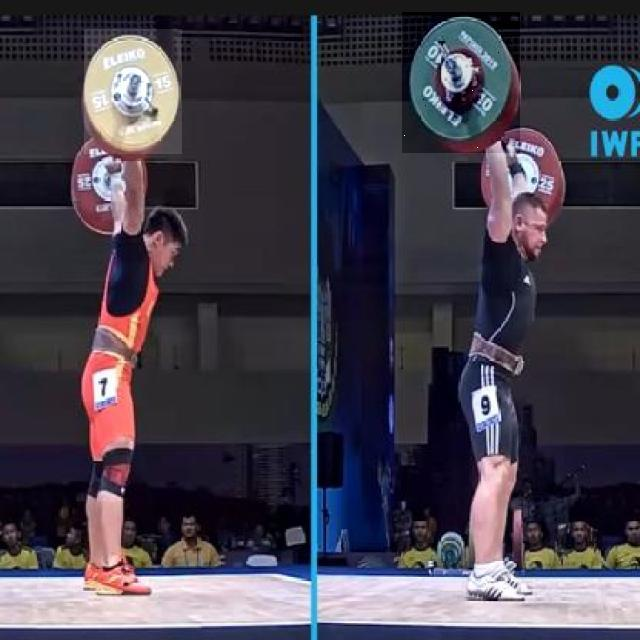barbell: (403, 13, 521, 154), (85, 30, 183, 155)
